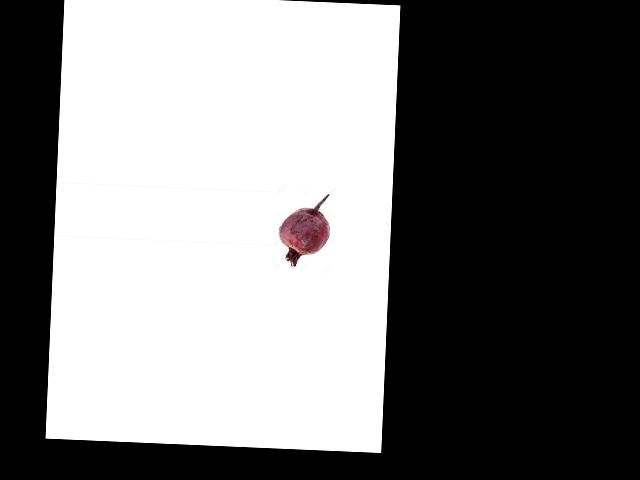beet: (277, 192, 331, 269)
